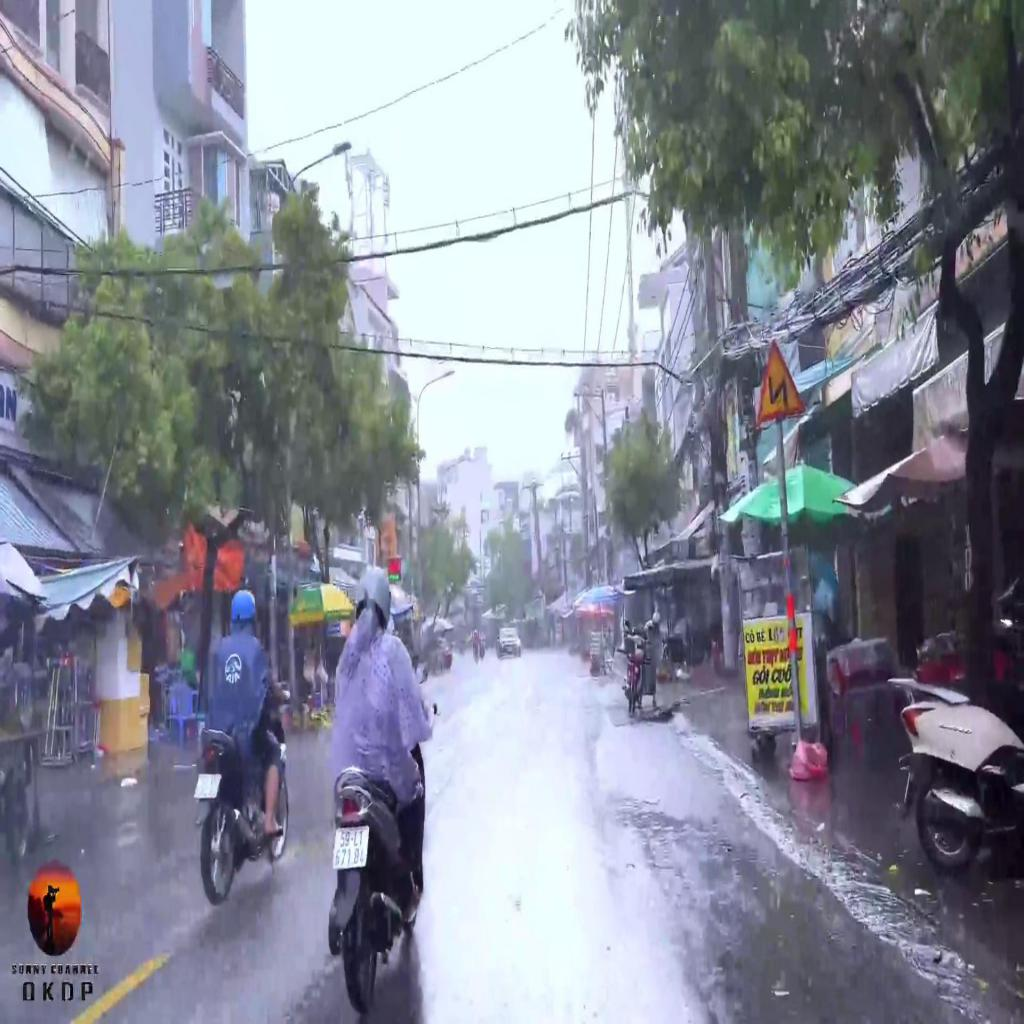cho_ngoat_nguy_hiem_lien_tiep: (756, 336, 806, 424)
